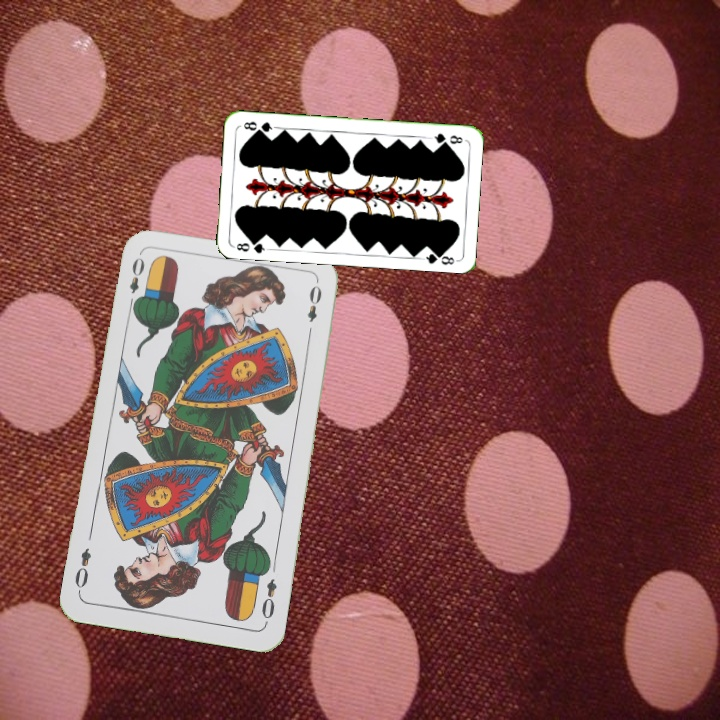EO: (125, 253, 147, 311), (257, 575, 280, 627)
G8: (231, 235, 271, 256), (427, 129, 465, 147)
